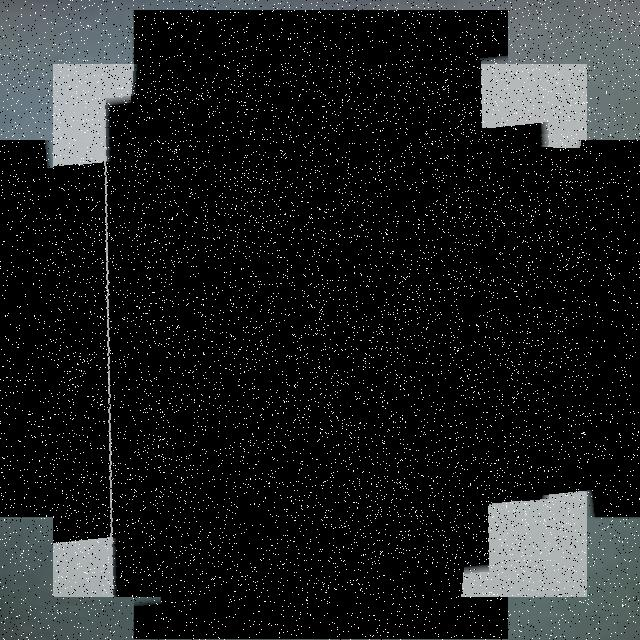lima puluh ribu rupiah: (53, 64, 587, 597)
